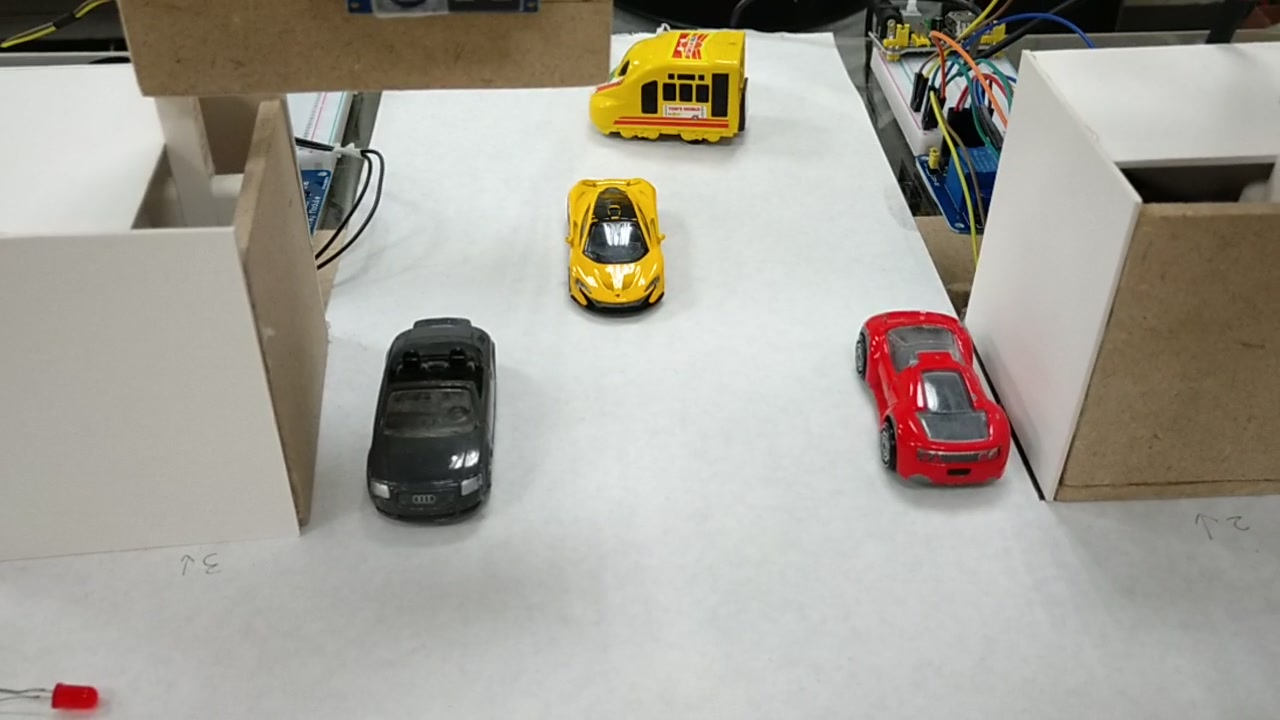car: (850, 311, 1008, 479), (369, 314, 486, 526), (572, 172, 666, 307)
